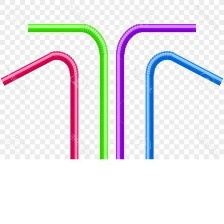drinking_straw: (110, 17, 201, 160), (23, 19, 111, 162), (139, 46, 224, 158), (0, 45, 83, 158)
